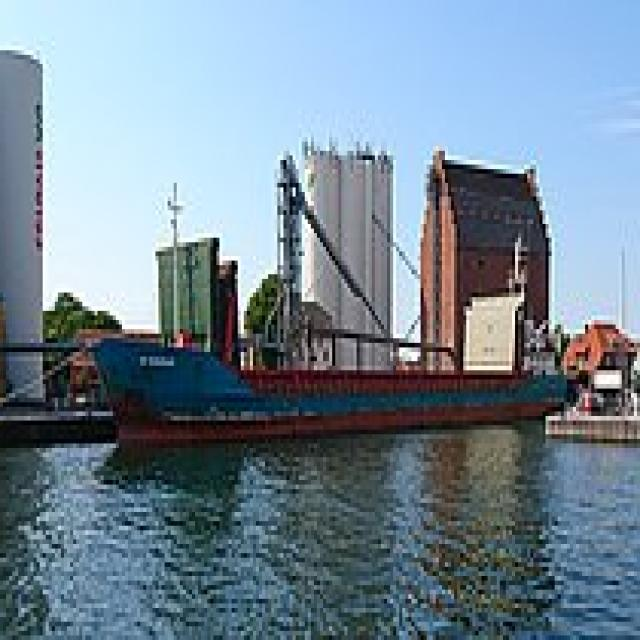Cargo: (100, 228, 598, 439)
